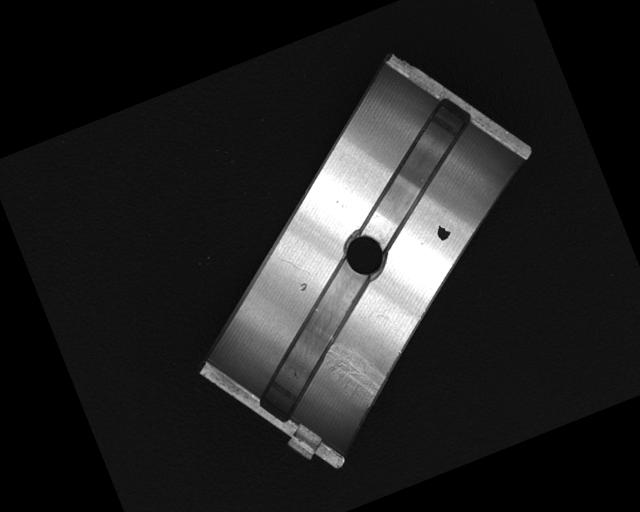blot: (433, 222, 453, 243)
bruise: (297, 281, 309, 293)
gap: (225, 259, 405, 427), (328, 92, 502, 252)
hole: (338, 226, 390, 282)
scratch: (315, 325, 393, 416)
